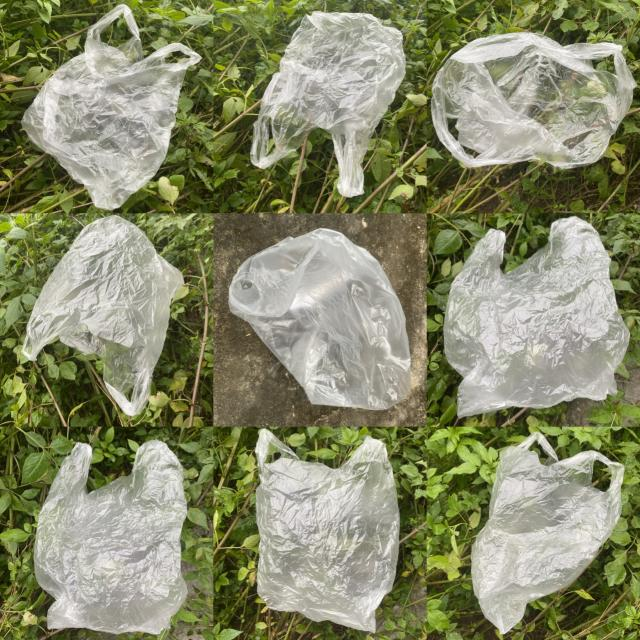Single-layer Plastic: (21, 5, 201, 210), (444, 218, 630, 416), (229, 229, 410, 410), (22, 216, 184, 416), (471, 432, 624, 634), (34, 440, 188, 634), (256, 429, 399, 632), (250, 11, 405, 197), (431, 32, 636, 169)
